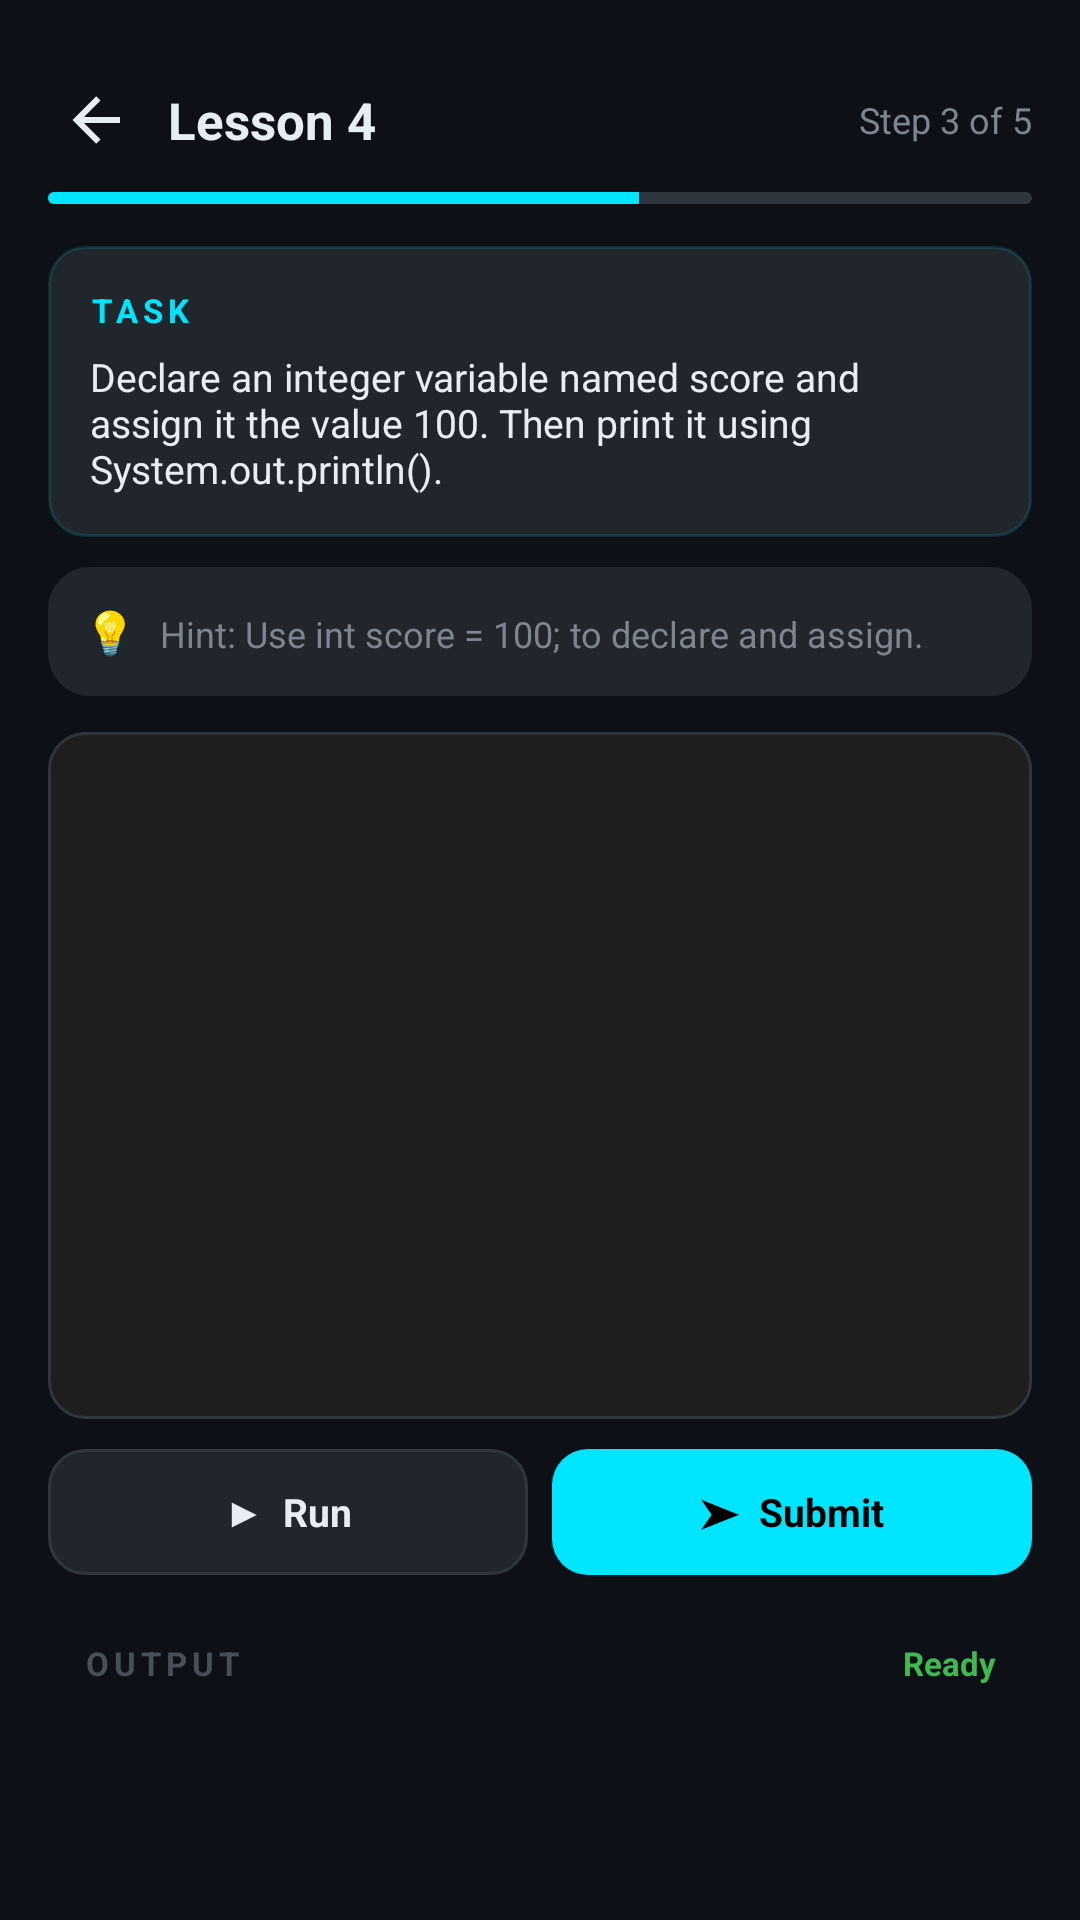

Named icons in this screenshot (1080 x 1920) and their centers, (x,y):
arrow back: (96,120)
